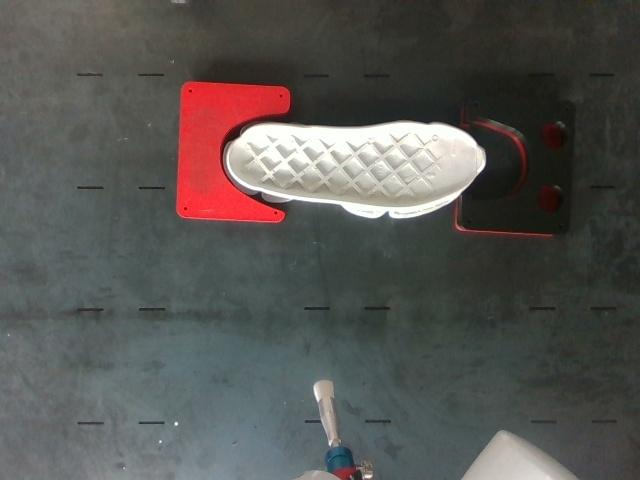shoes: (229, 124, 483, 208)
